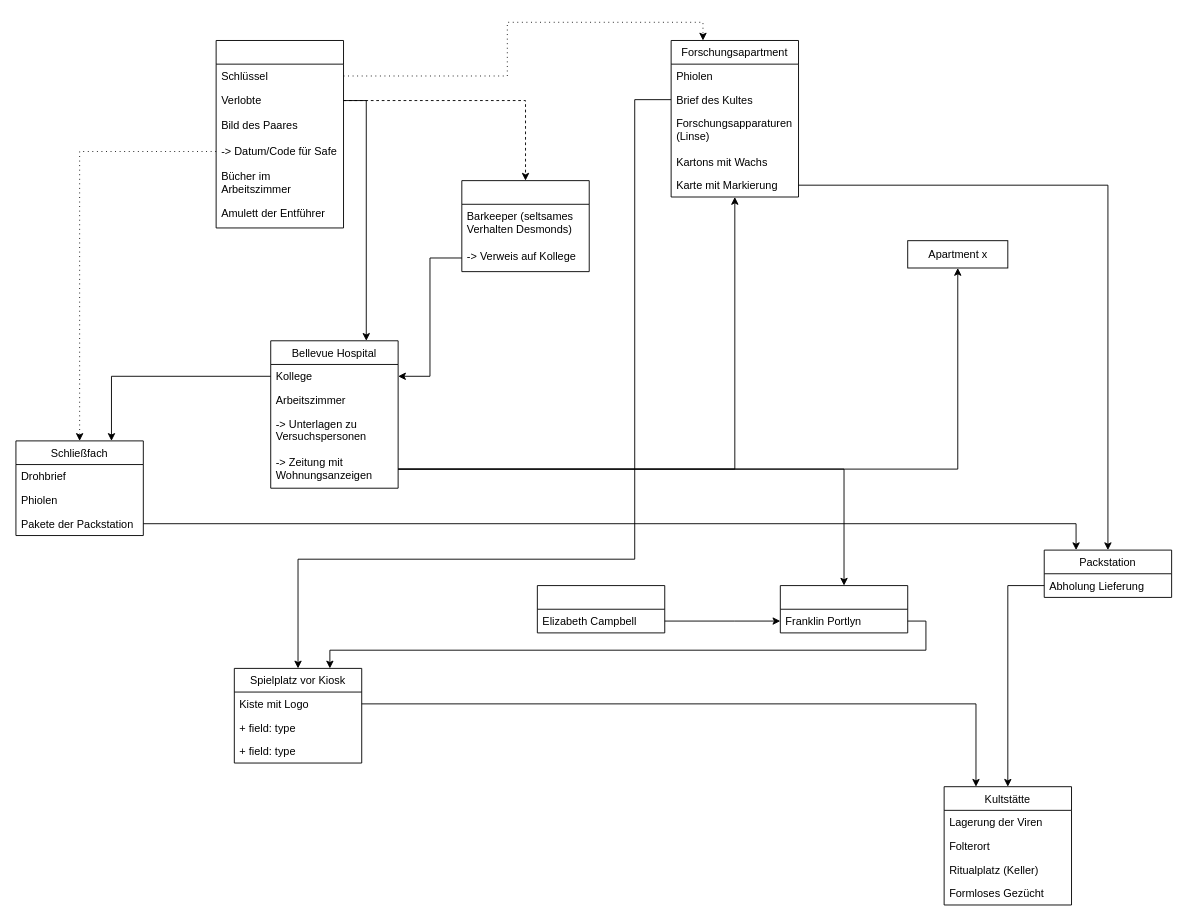
Some shapes in this 1188 by 924 pixel diagram are drawn without their labels. The box of each missing label's shape, as (x1, y1, x2, y2) in pixels:
Aparmtent - Franklin: (779, 585, 908, 633)
Desmonds Wohnung: (215, 40, 344, 228)
The Brooklyn Hospital: (536, 585, 665, 633)
West 9: (461, 180, 589, 272)
